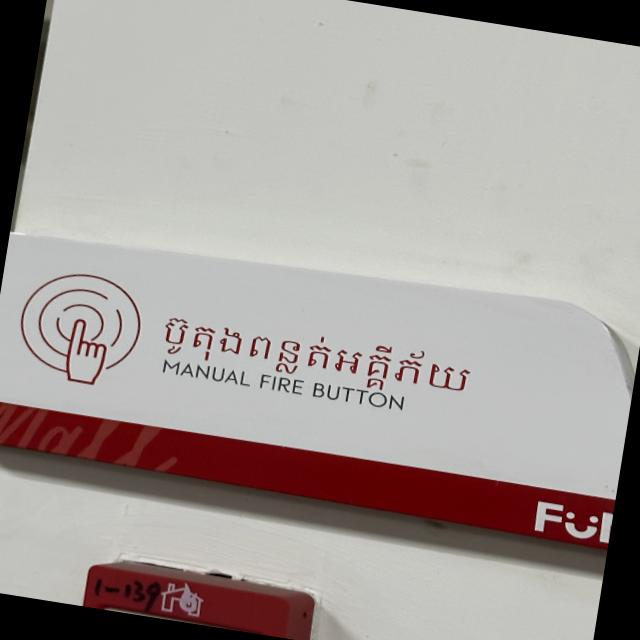Yolov11kh: (154, 304, 481, 404)
